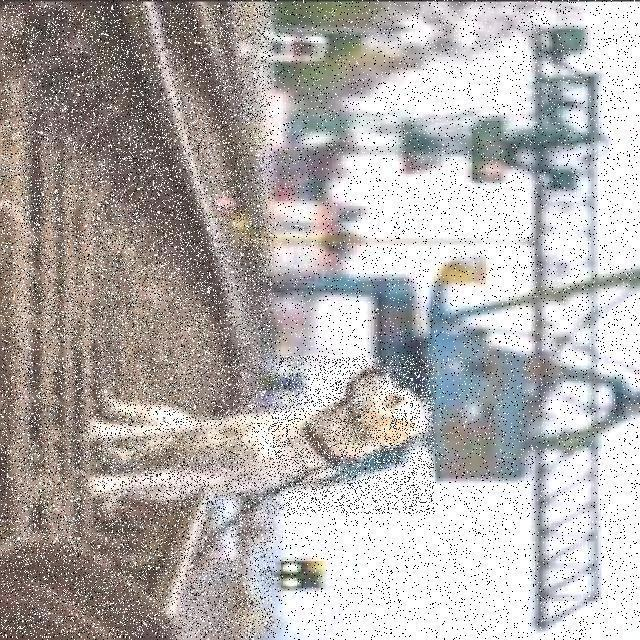rail: (3, 7, 273, 638)
